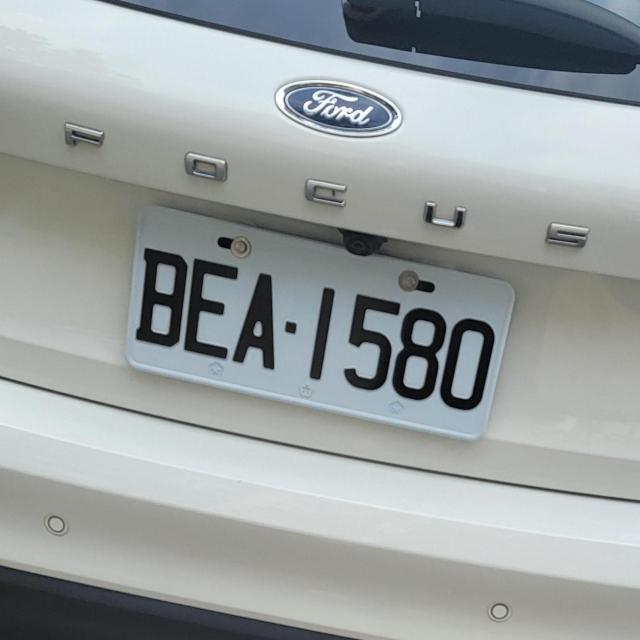W: (100, 198, 526, 450)
